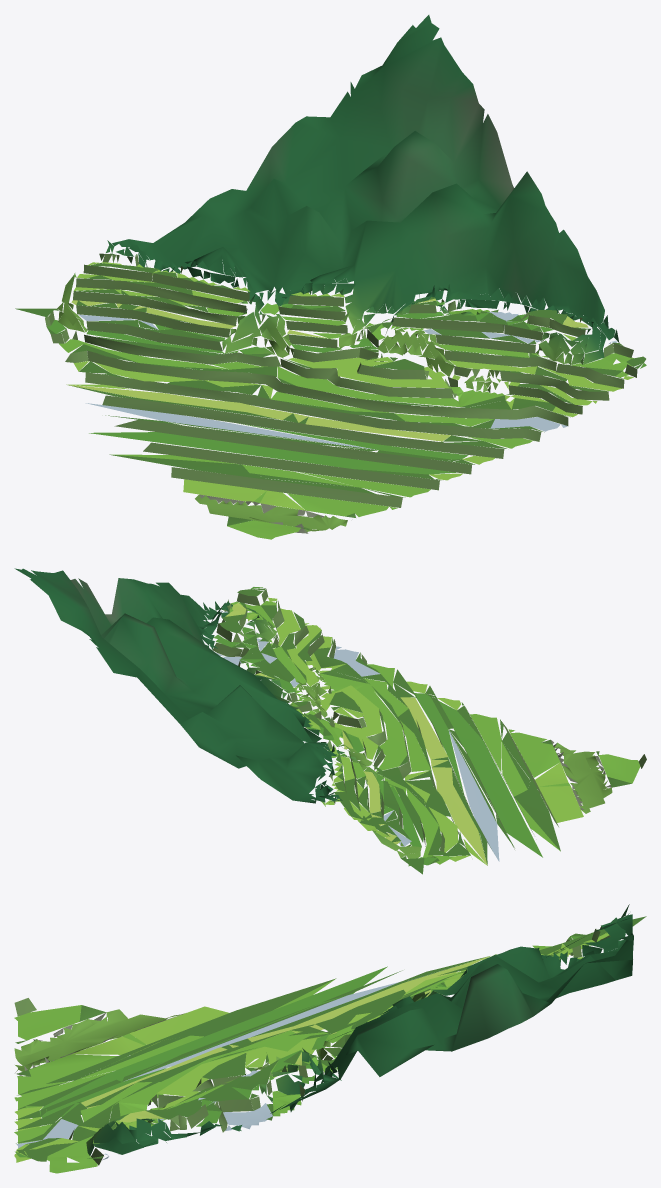
File: payo_land_xm2_y4_lod2.glb
3 renders of one model, top to bottom at view 1: azimuth 30°, elevation 25°; view 2: azimuth 150°, elevation 25°; view 3: azimuth 270°, elevation 25°, orthographic. The views are drawn at different scales.
Parts seen in each view (by area): view 1: payo_land_xm2_y4; view 2: payo_land_xm2_y4; view 3: payo_land_xm2_y4.
Part boxes in pixels (x1,y1,x2,y2): payo_land_xm2_y4: (15,15,646,539); payo_land_xm2_y4: (14,568,646,874); payo_land_xm2_y4: (14,904,646,1173).
Bounding box in the file's own units: 281 × 167 × 264.
